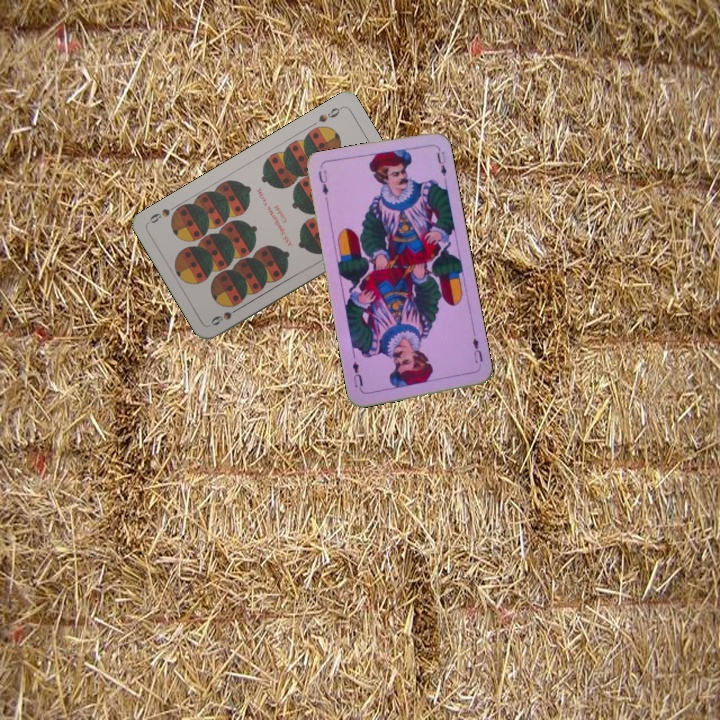EU: (468, 334, 485, 370), (314, 166, 331, 198)
S9: (207, 302, 244, 328), (314, 103, 344, 125)
